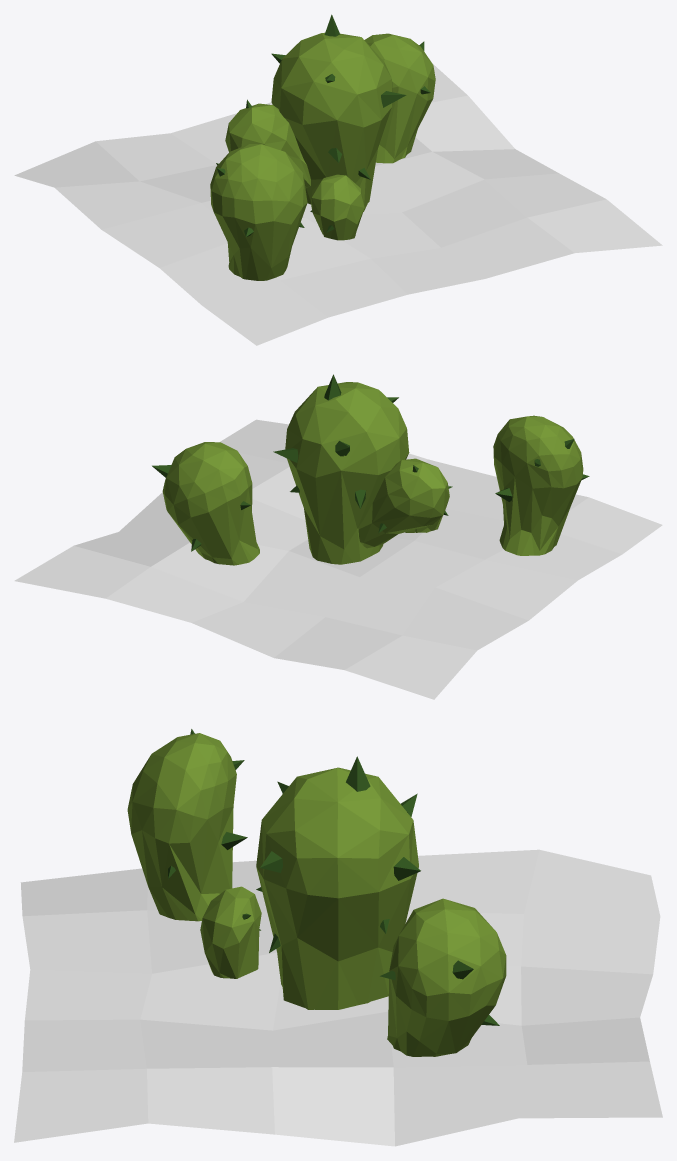
The model's file is cactus2.fbx.
The picture shows the model from 3 angles, top to bottom: view 1: azimuth 30°, elevation 25°; view 2: azimuth 150°, elevation 25°; view 3: azimuth 270°, elevation 25°; orthographic projection. The views are drawn at different scales.
Parts seen in each view (by area): view 1: 平面, 融球.002, 融球.001, 融球.005, 融球.003, 融球.006; view 2: 平面, 融球.002, 融球.001, 融球.005, 融球.003; view 3: 平面, 融球.002, 融球.001, 融球.005, 融球.006.
Boxes of the visible parts, x1,y1,x2,y2 form: 平面: (14,63,662,345); 融球.002: (271,32,392,211); 融球.001: (210,144,307,280); 融球.005: (364,33,435,163); 融球.003: (225,103,310,188); 融球.006: (311,174,364,240); 平面: (14,419,662,699); 融球.002: (285,382,409,564); 融球.001: (493,415,583,555); 融球.005: (162,442,259,565); 融球.003: (358,458,449,548); 平面: (14,849,662,1146); 融球.002: (256,767,418,1009); 融球.001: (127,733,236,921); 融球.005: (387,898,506,1056); 融球.006: (200,886,261,978).
Bounding box in the file's own units: 321 × 172 × 323.
